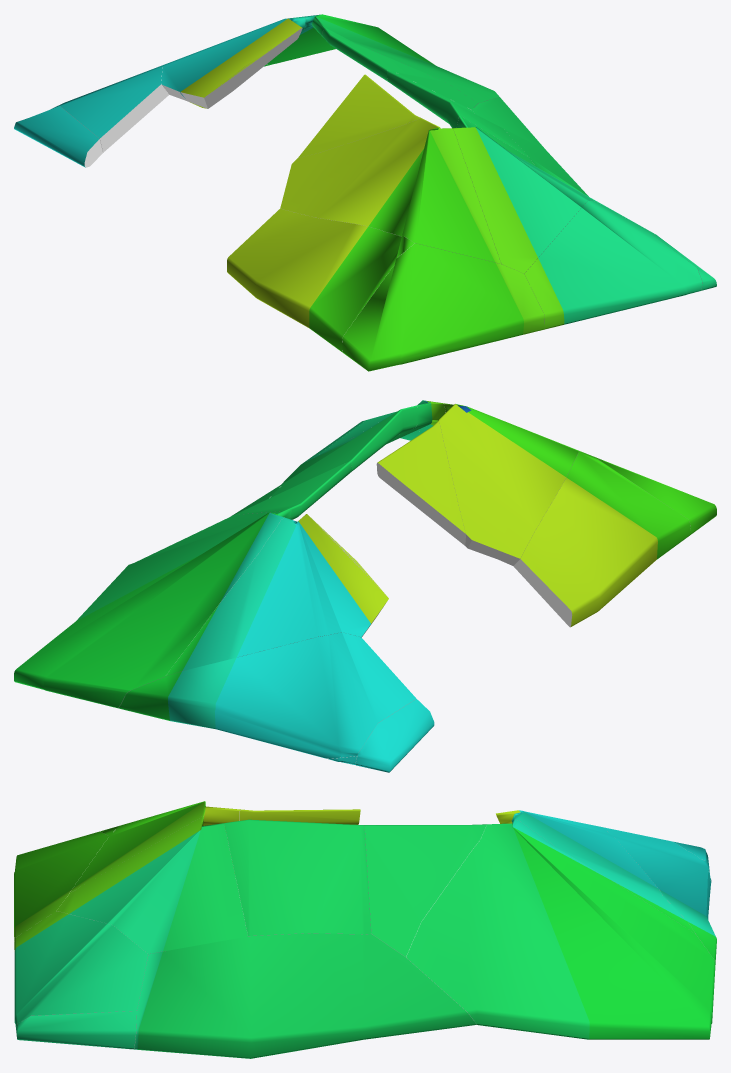
File: Structure_Tower_Knight_Human_02_Destroyed_debris_cells_main_structure_rooftop_02.fbx
3 views of the same model, one above another, from view 1: azimuth 30°, elevation 25°; view 2: azimuth 150°, elevation 25°; view 3: azimuth 270°, elevation 25° (orthographic). The views are drawn at different scales.
Visible parts, largest first — view 1: Structure_Tower_Knight_Human_02.003_cell.009, Structure_Tower_Knight_Human_02.003_cell, Structure_Tower_Knight_Human_02.003_cell.010, Structure_Tower_Knight_Human_02.003_cell.011, Structure_Tower_Knight_Human_02.003_cell.005, Structure_Tower_Knight_Human_02.003_cell.001, Structure_Tower_Knight_Human_02.003_cell.012, Structure_Tower_Knight_Human_02.003_cell.007, Structure_Tower_Knight_Human_02.003_cell.015, Structure_Tower_Knight_Human_02.003_cell.002, Structure_Tower_Knight_Human_02.003_cell.008, Structure_Tower_Knight_Human_02.003_cell.004 (+1 smaller); view 2: Structure_Tower_Knight_Human_02.003_cell.012, Structure_Tower_Knight_Human_02.003_cell.007, Structure_Tower_Knight_Human_02.003_cell.001, Structure_Tower_Knight_Human_02.003_cell.010, Structure_Tower_Knight_Human_02.003_cell.009, Structure_Tower_Knight_Human_02.003_cell.015, Structure_Tower_Knight_Human_02.003_cell.002, Structure_Tower_Knight_Human_02.003_cell.006, Structure_Tower_Knight_Human_02.003_cell.008, Structure_Tower_Knight_Human_02.003_cell, Structure_Tower_Knight_Human_02.003_cell.005, Structure_Tower_Knight_Human_02.003_cell.011; view 3: Structure_Tower_Knight_Human_02.003_cell.012, Structure_Tower_Knight_Human_02.003_cell.004, Structure_Tower_Knight_Human_02.003_cell.005, Structure_Tower_Knight_Human_02.003_cell.006, Structure_Tower_Knight_Human_02.003_cell.011, Structure_Tower_Knight_Human_02.003_cell.008, Structure_Tower_Knight_Human_02.003_cell.001, Structure_Tower_Knight_Human_02.003_cell.007, Structure_Tower_Knight_Human_02.003_cell, Structure_Tower_Knight_Human_02.003_cell.009, Structure_Tower_Knight_Human_02.003_cell.014, Structure_Tower_Knight_Human_02.003_cell.015.
Part boxes in pixels (bbox=[...]): Structure_Tower_Knight_Human_02.003_cell.009: bbox=[280, 118, 501, 263]; Structure_Tower_Knight_Human_02.003_cell: bbox=[342, 243, 544, 371]; Structure_Tower_Knight_Human_02.003_cell.010: bbox=[227, 208, 414, 352]; Structure_Tower_Knight_Human_02.003_cell.011: bbox=[524, 200, 702, 329]; Structure_Tower_Knight_Human_02.003_cell.005: bbox=[453, 116, 592, 273]; Structure_Tower_Knight_Human_02.003_cell.001: bbox=[161, 16, 305, 108]; Structure_Tower_Knight_Human_02.003_cell.012: bbox=[266, 14, 499, 103]; Structure_Tower_Knight_Human_02.003_cell.007: bbox=[52, 61, 273, 152]; Structure_Tower_Knight_Human_02.003_cell.015: bbox=[298, 74, 421, 157]; Structure_Tower_Knight_Human_02.003_cell.002: bbox=[14, 106, 102, 167]; Structure_Tower_Knight_Human_02.003_cell.008: bbox=[322, 27, 477, 109]; Structure_Tower_Knight_Human_02.003_cell.004: bbox=[472, 97, 656, 234]; Structure_Tower_Knight_Human_02.003_cell.012: bbox=[14, 507, 291, 708]; Structure_Tower_Knight_Human_02.003_cell.007: bbox=[118, 632, 416, 758]; Structure_Tower_Knight_Human_02.003_cell.001: bbox=[165, 514, 388, 676]; Structure_Tower_Knight_Human_02.003_cell.010: bbox=[513, 451, 690, 627]; Structure_Tower_Knight_Human_02.003_cell.009: bbox=[439, 403, 579, 565]; Structure_Tower_Knight_Human_02.003_cell.015: bbox=[376, 420, 465, 545]; Structure_Tower_Knight_Human_02.003_cell.002: bbox=[355, 699, 434, 772]; Structure_Tower_Knight_Human_02.003_cell.006: bbox=[270, 405, 417, 497]; Structure_Tower_Knight_Human_02.003_cell.008: bbox=[235, 461, 351, 519]; Structure_Tower_Knight_Human_02.003_cell: bbox=[598, 459, 716, 534]; Structure_Tower_Knight_Human_02.003_cell.005: bbox=[351, 400, 445, 443]; Structure_Tower_Knight_Human_02.003_cell.011: bbox=[318, 412, 422, 455]; Structure_Tower_Knight_Human_02.003_cell.012: bbox=[406, 819, 715, 1039]; Structure_Tower_Knight_Human_02.003_cell.004: bbox=[134, 933, 476, 1058]; Structure_Tower_Knight_Human_02.003_cell.005: bbox=[56, 816, 247, 954]; Structure_Tower_Knight_Human_02.003_cell.006: bbox=[224, 819, 371, 936]; Structure_Tower_Knight_Human_02.003_cell.011: bbox=[14, 911, 148, 1029]; Structure_Tower_Knight_Human_02.003_cell.008: bbox=[364, 824, 486, 957]; Structure_Tower_Knight_Human_02.003_cell.001: bbox=[496, 810, 695, 933]; Structure_Tower_Knight_Human_02.003_cell.007: bbox=[604, 827, 716, 964]; Structure_Tower_Knight_Human_02.003_cell: bbox=[14, 831, 108, 941]; Structure_Tower_Knight_Human_02.003_cell.009: bbox=[70, 801, 240, 892]; Structure_Tower_Knight_Human_02.003_cell.014: bbox=[16, 1011, 136, 1049]; Structure_Tower_Knight_Human_02.003_cell.015: bbox=[240, 809, 360, 824].
Bounding box in the file's own units: 505 × 210 × 810.
